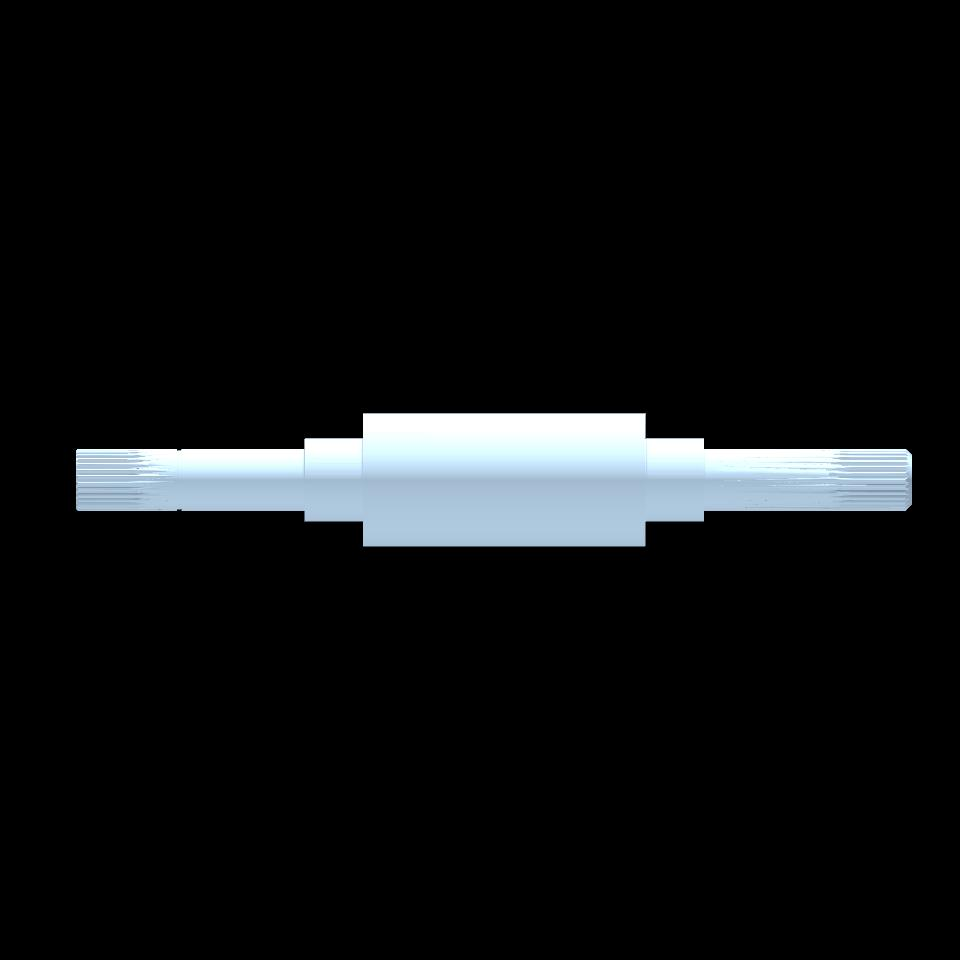Straight: (838, 449, 907, 513), (76, 448, 140, 512)
